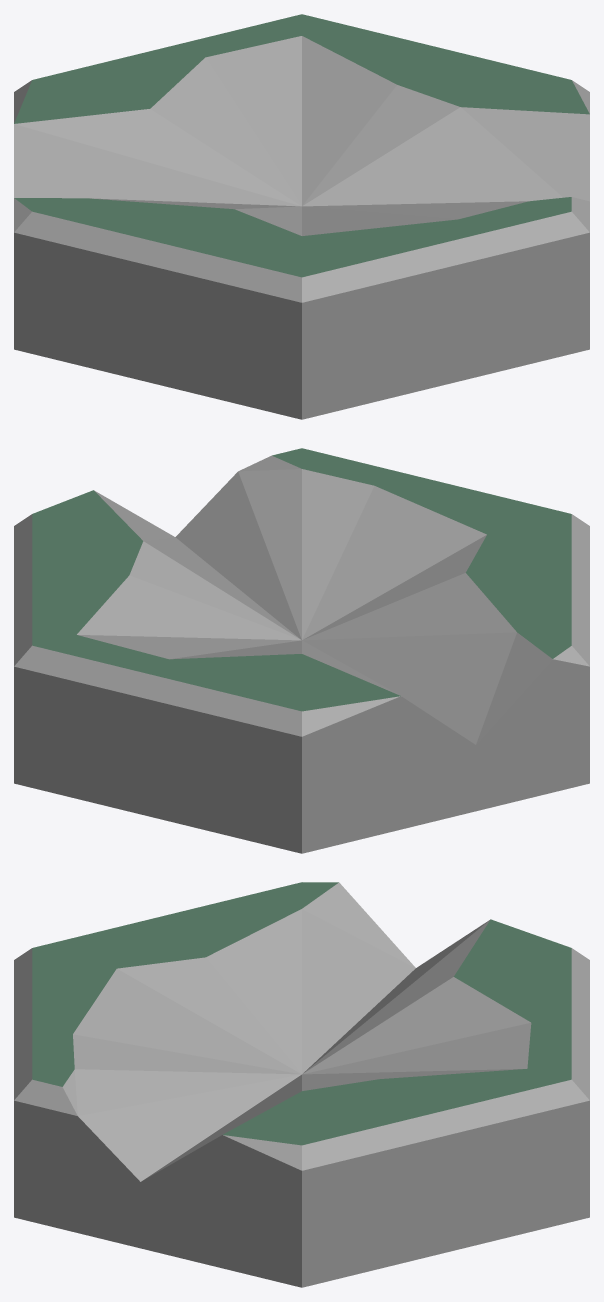
The model's file is Hex12.fbx.
The picture shows the model from 3 angles, top to bottom: view 1: azimuth 30°, elevation 25°; view 2: azimuth 150°, elevation 25°; view 3: azimuth 270°, elevation 25°; orthographic projection.
Parts seen in each view (by area): view 1: Hex012; view 2: Hex012; view 3: Hex012.
Part boxes in pixels (x1=…): Hex012: x1=14, y1=14, x2=589, y2=419; Hex012: x1=14, y1=448, x2=589, y2=853; Hex012: x1=14, y1=882, x2=589, y2=1287.
Bounding box in the file's own units: 1.67 × 0.3694 × 1.44.
